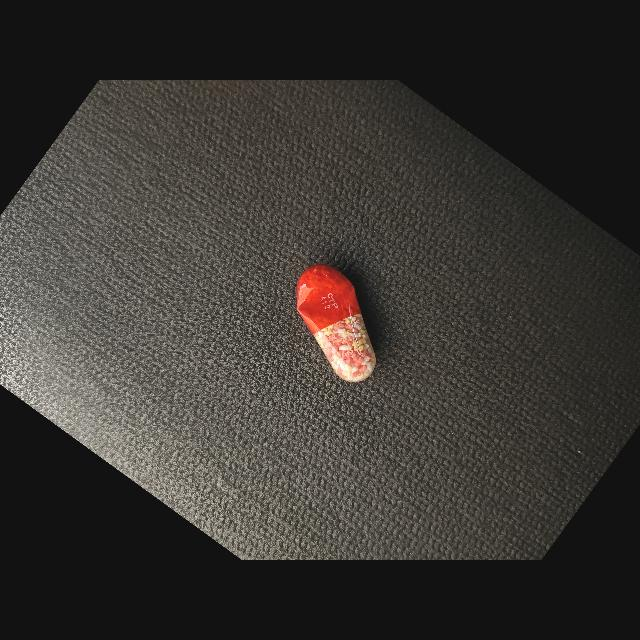Defective Capsule: (297, 264, 376, 382)
